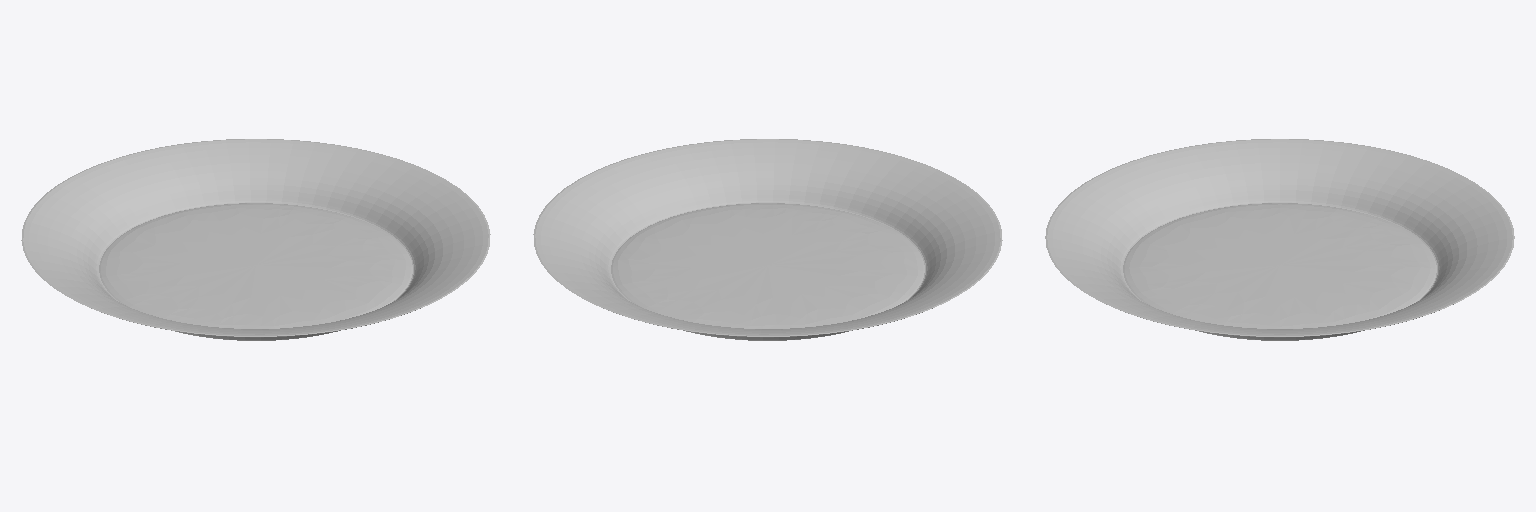
File: Plate.obj
The picture shows the model from 3 angles: view 1: azimuth 30°, elevation 25°; view 2: azimuth 150°, elevation 25°; view 3: azimuth 270°, elevation 25°; orthographic projection.
Visible parts, largest first — view 1: decorated_plate; view 2: decorated_plate; view 3: decorated_plate.
Part boxes in pixels (left/top/right/bottom): decorated_plate: left=21, top=139, right=490, bottom=340; decorated_plate: left=533, top=139, right=1002, bottom=340; decorated_plate: left=1045, top=139, right=1514, bottom=340.
Bounding box in the file's own units: 0.2505 × 0.0216 × 0.2505.